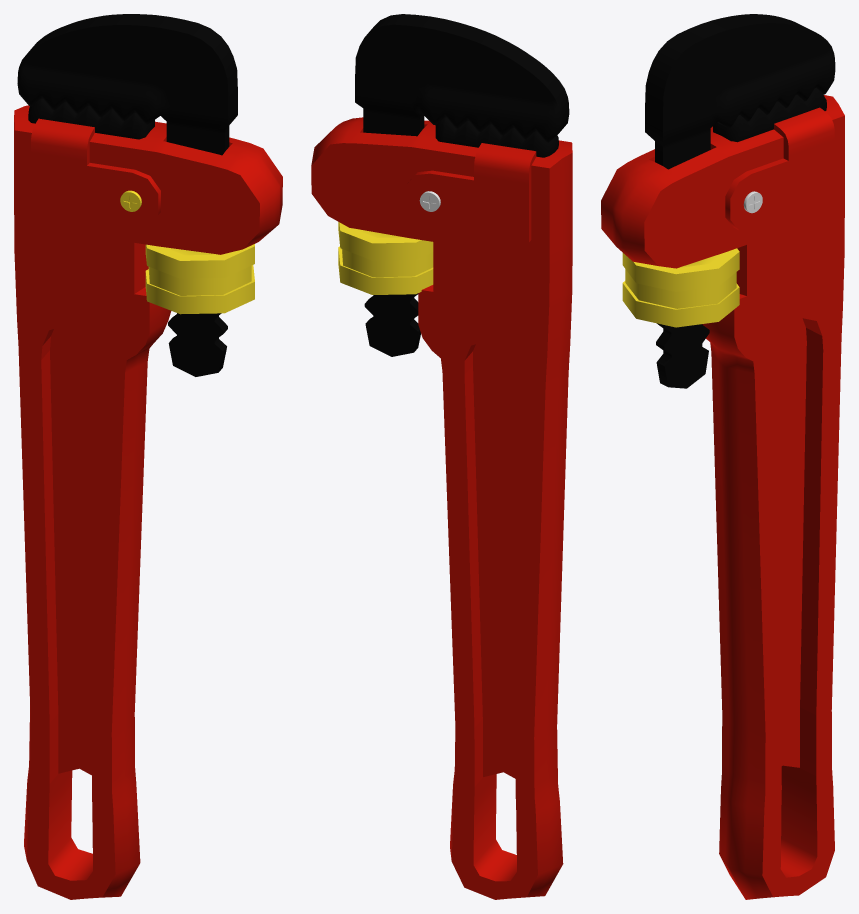
The picture shows the model from 3 angles, left to right: view 1: azimuth 30°, elevation 25°; view 2: azimuth 210°, elevation 25°; view 3: azimuth 270°, elevation 25°; orthographic projection. The views are drawn at different scales.
Visible parts, largest first — view 1: body.003, top_teeth, plate, wheel, teeth.001; view 2: body.003, top_teeth, plate, wheel, teeth.001; view 3: body.003, top_teeth, plate, wheel, teeth.001.
Part boxes in pixels (x1,y1,x2,y2): body.003: (14,105,282,899); top_teeth: (17,14,237,376); plate: (31,118,160,228); wheel: (145,244,254,314); teeth.001: (28,98,154,139); body.003: (311,117,572,899); top_teeth: (355,14,569,356); plate: (404,143,536,242); wheel: (338,222,433,294); teeth.001: (435,117,558,157); body.003: (601,95,844,899); top_teeth: (645,14,835,388); plate: (725,107,834,230); wheel: (622,248,739,327); teeth.001: (713,87,826,142).
Bounding box in the file's own units: 14.12 × 15.66 × 63.18.
